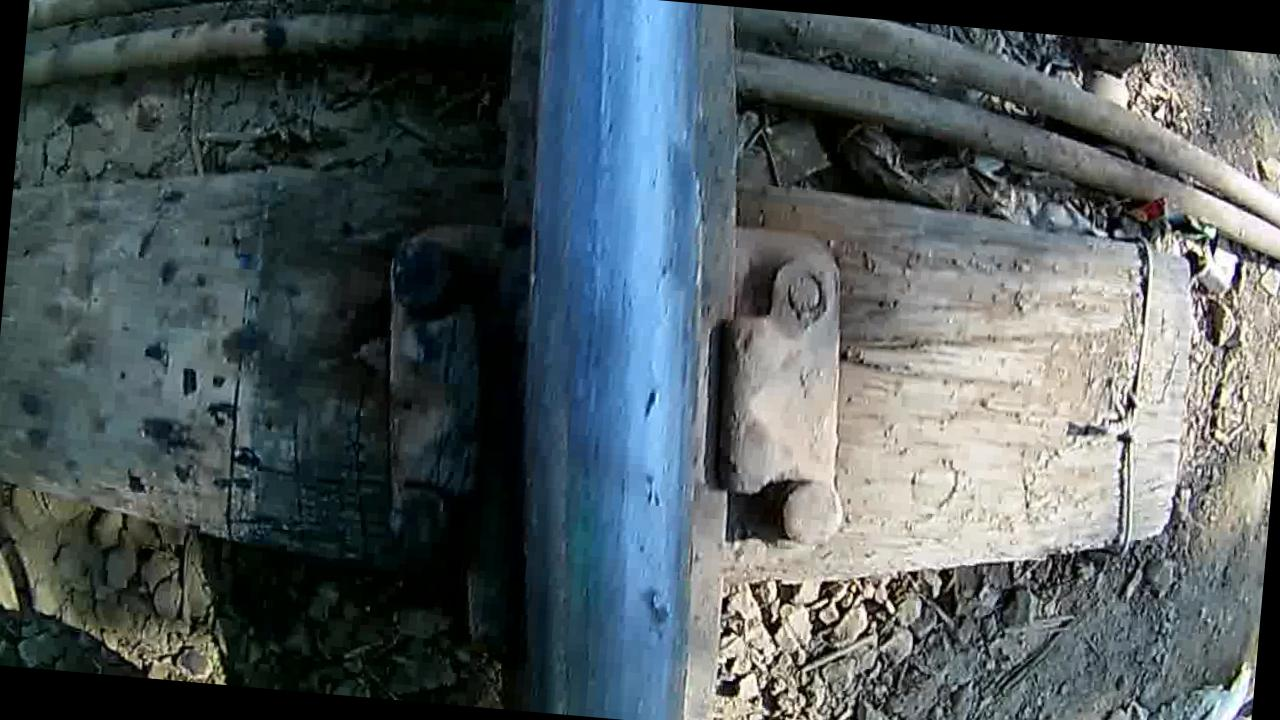crack: (507, 0, 722, 720)
